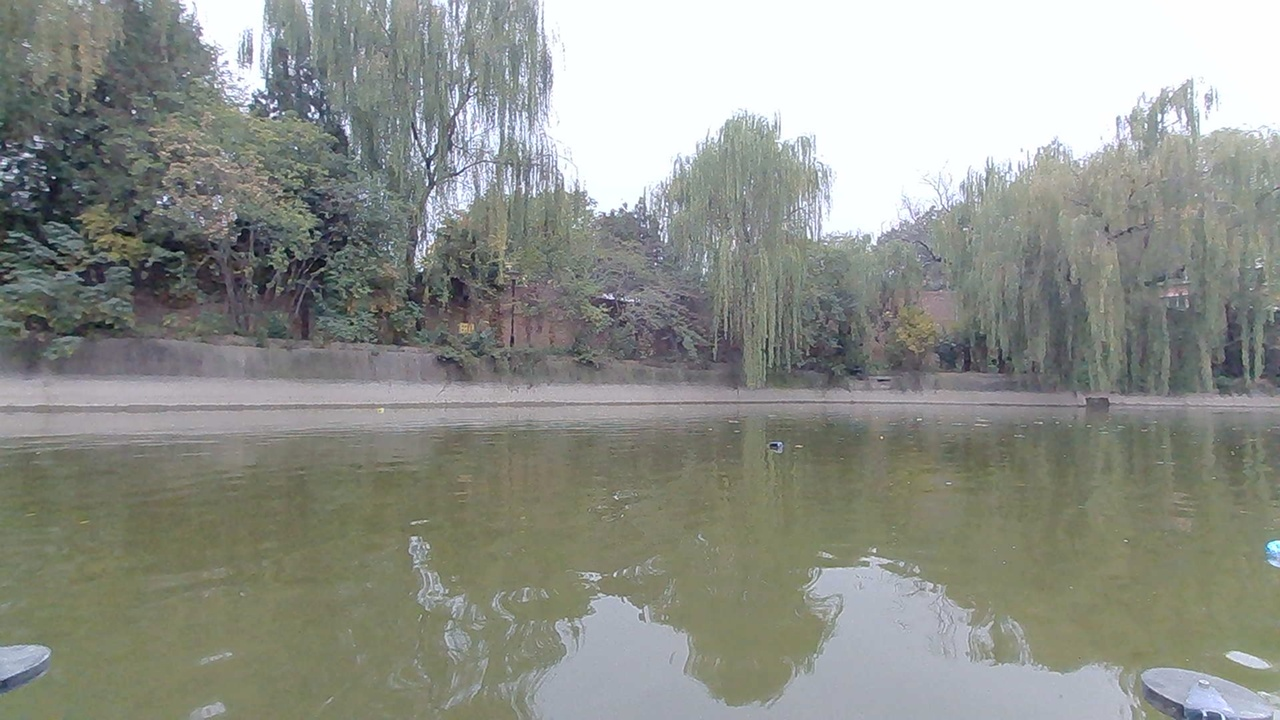bottle: (1250, 536, 1279, 579), (766, 431, 794, 457)
